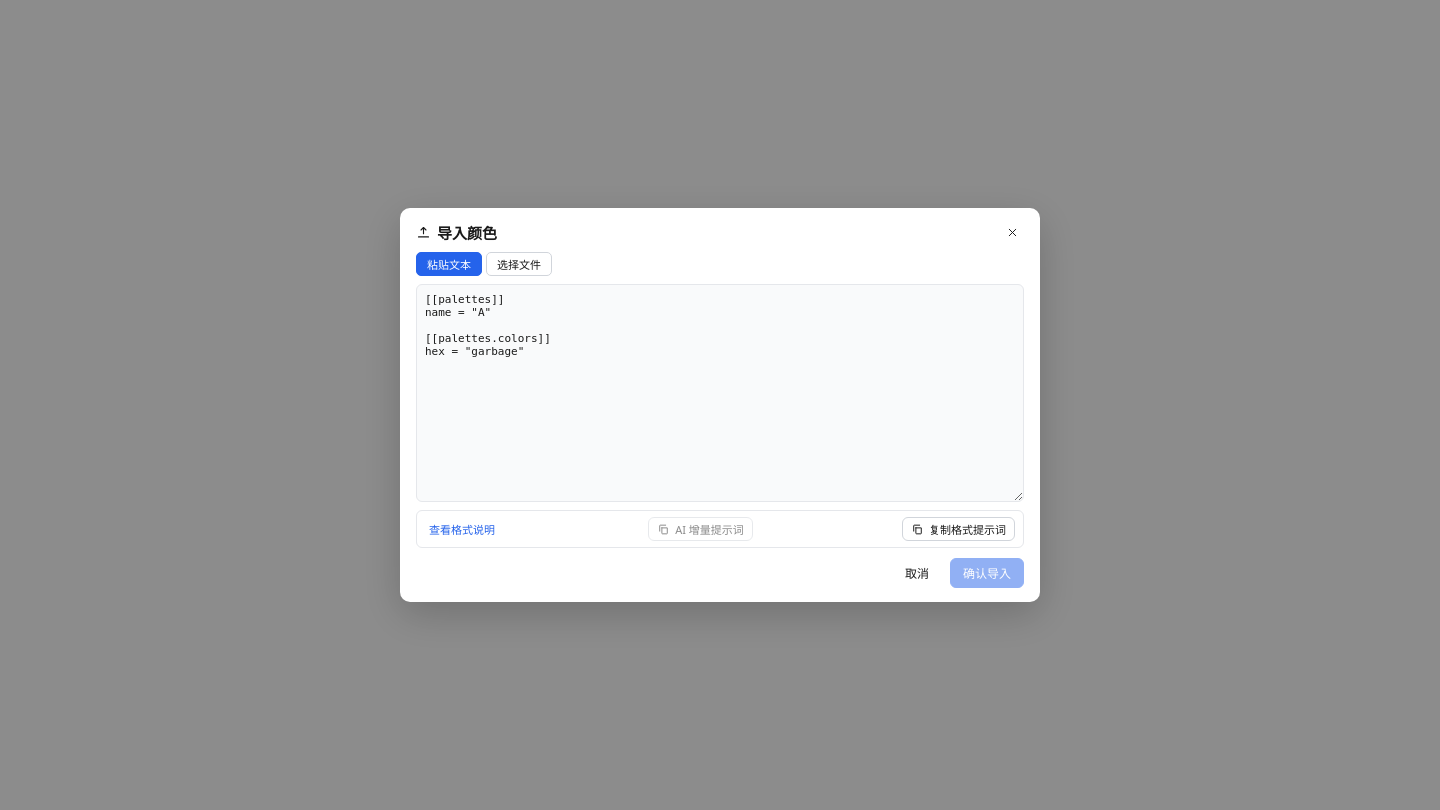
Test case: ImportModal: paste + confirm › disables confirm when TOML has errors (unparseable hex)
Replace the text in the text box named "TOML 内容" with "[ [palettes]] name = \"A\" [ [palettes.colors]] hex = \"garbage\" " at (720, 393), box [416,284,1024,502]
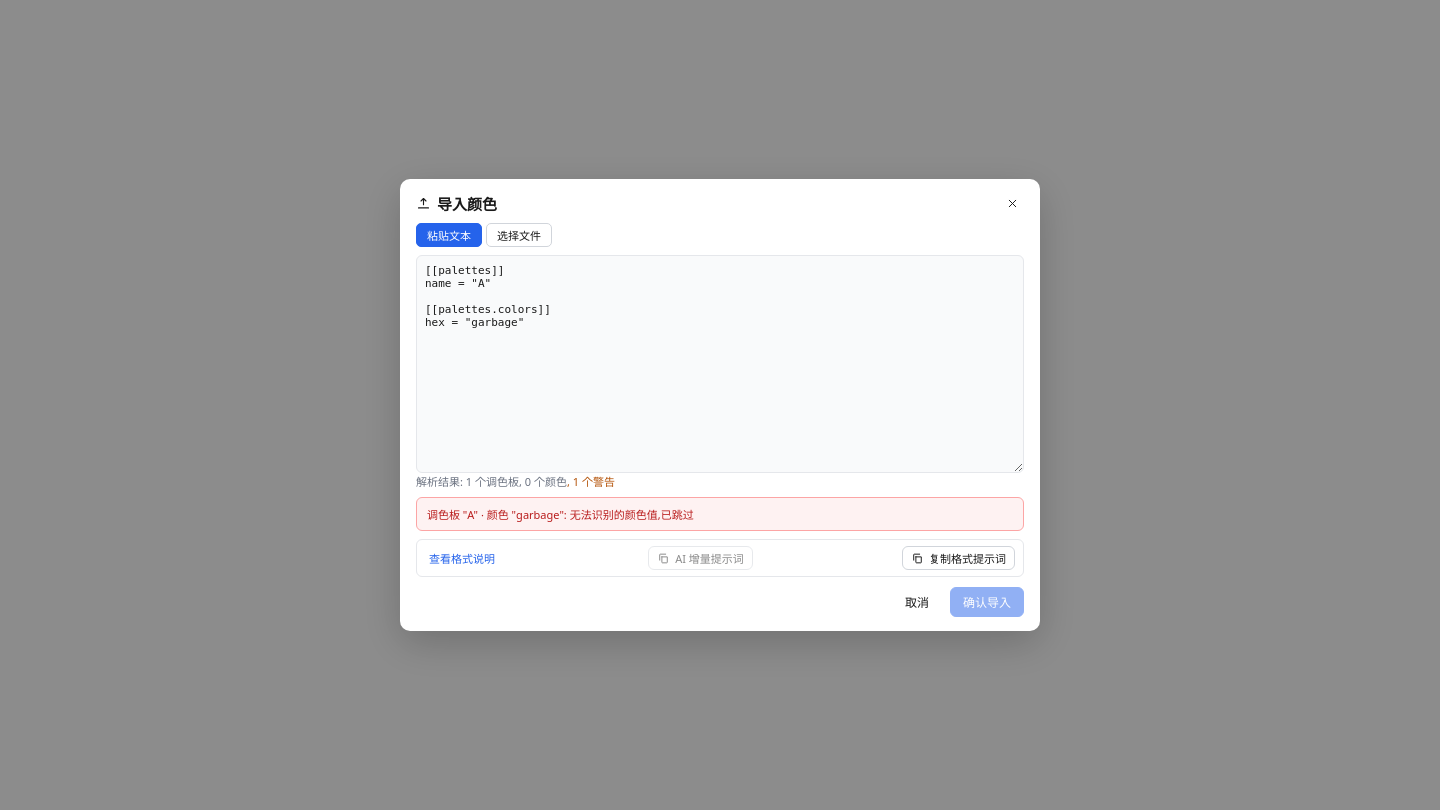
Check: the button "确认导入" is disabled, box [950,587,1024,617]
Check: the text "个警告" is shown, box [579,474,615,489]
